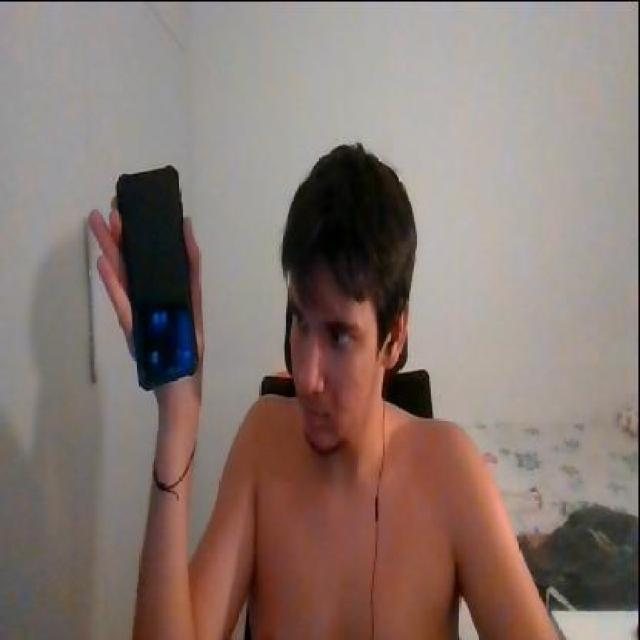mobile: (115, 162, 198, 398)
